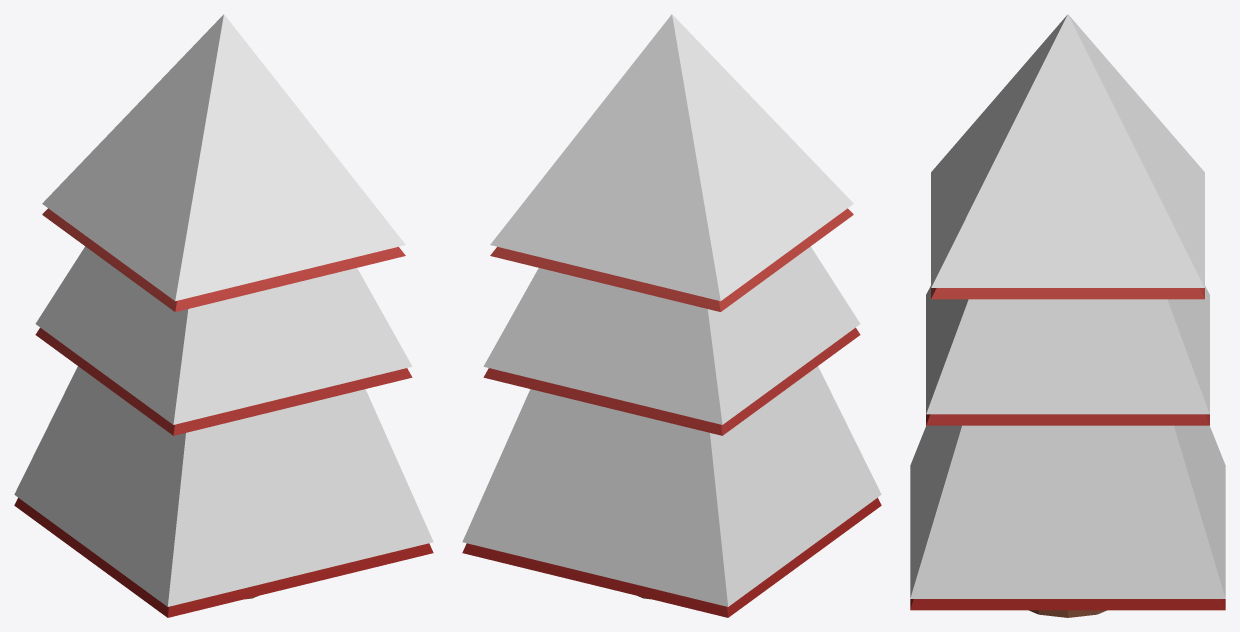
Rendered from Tree_18_winter_gradient_red_pal.fbx.
The picture shows the model from 3 angles, left to right: view 1: azimuth 30°, elevation 25°; view 2: azimuth 150°, elevation 25°; view 3: azimuth 270°, elevation 25°; orthographic projection. The views are drawn at different scales.
Visible parts, largest first — view 1: Tree_18_winter_gradient_red_pal; view 2: Tree_18_winter_gradient_red_pal; view 3: Tree_18_winter_gradient_red_pal.
Boxes of the visible parts, <box> form: Tree_18_winter_gradient_red_pal: <box>14,14,433,617</box>; Tree_18_winter_gradient_red_pal: <box>462,14,881,617</box>; Tree_18_winter_gradient_red_pal: <box>910,14,1225,617</box>.
Size of the model in its own units: 95.96 by 194 by 95.96.
